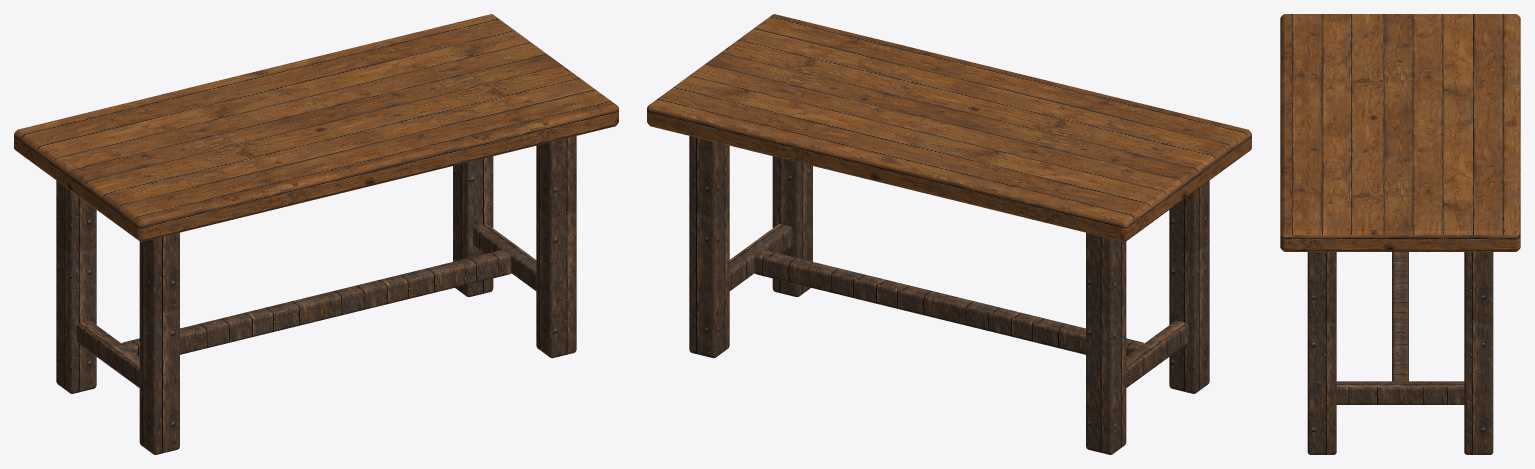
Rendered from table-v01.glb.
The picture shows the model from 3 angles, left to right: view 1: azimuth 30°, elevation 25°; view 2: azimuth 150°, elevation 25°; view 3: azimuth 270°, elevation 25°; orthographic projection. The views are drawn at different scales.
Visible parts, largest first — view 1: table; view 2: table; view 3: table.
Part boxes in pixels (x1,y1,x2,y2): table: (14, 14, 618, 454); table: (647, 14, 1251, 454); table: (1280, 14, 1520, 454).
Size of the model in its own units: 2.5 by 1.25 by 1.15.
Materials: 2 (2 with a texture image).
